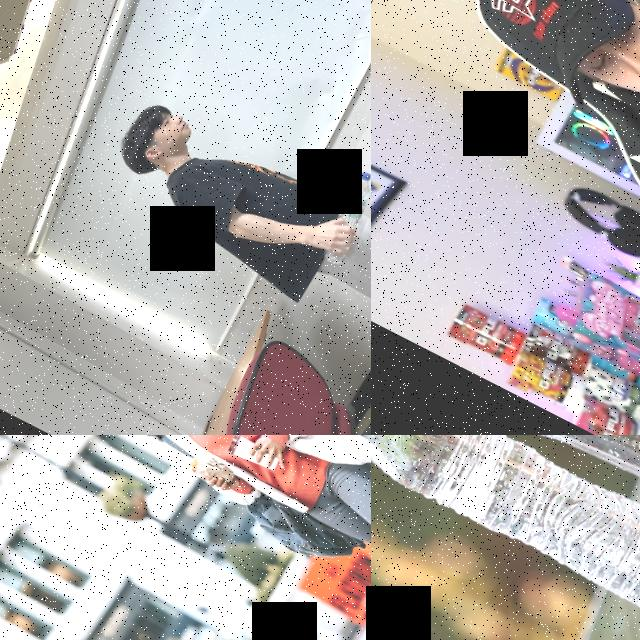bottle: (371, 435, 640, 622), (314, 166, 371, 267)
cup: (225, 435, 283, 474)
